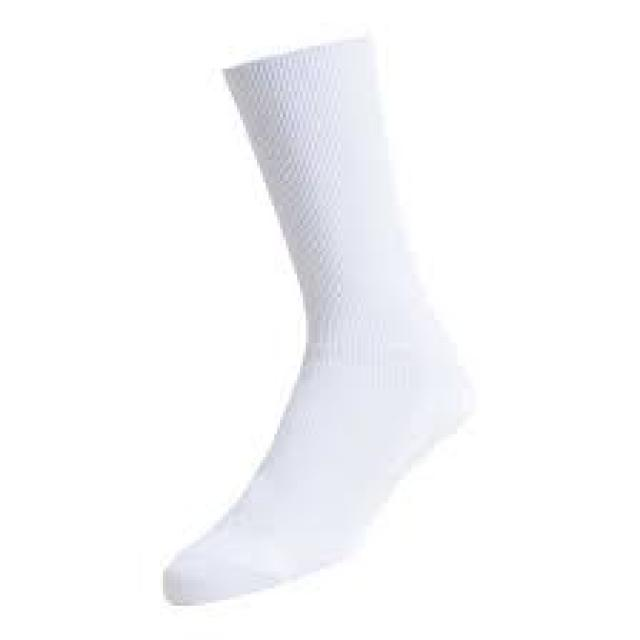sock: (160, 31, 474, 606)
